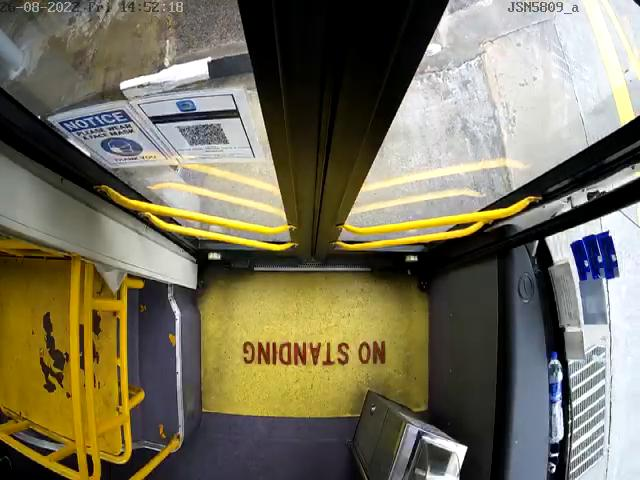close: (0, 0, 640, 126)
